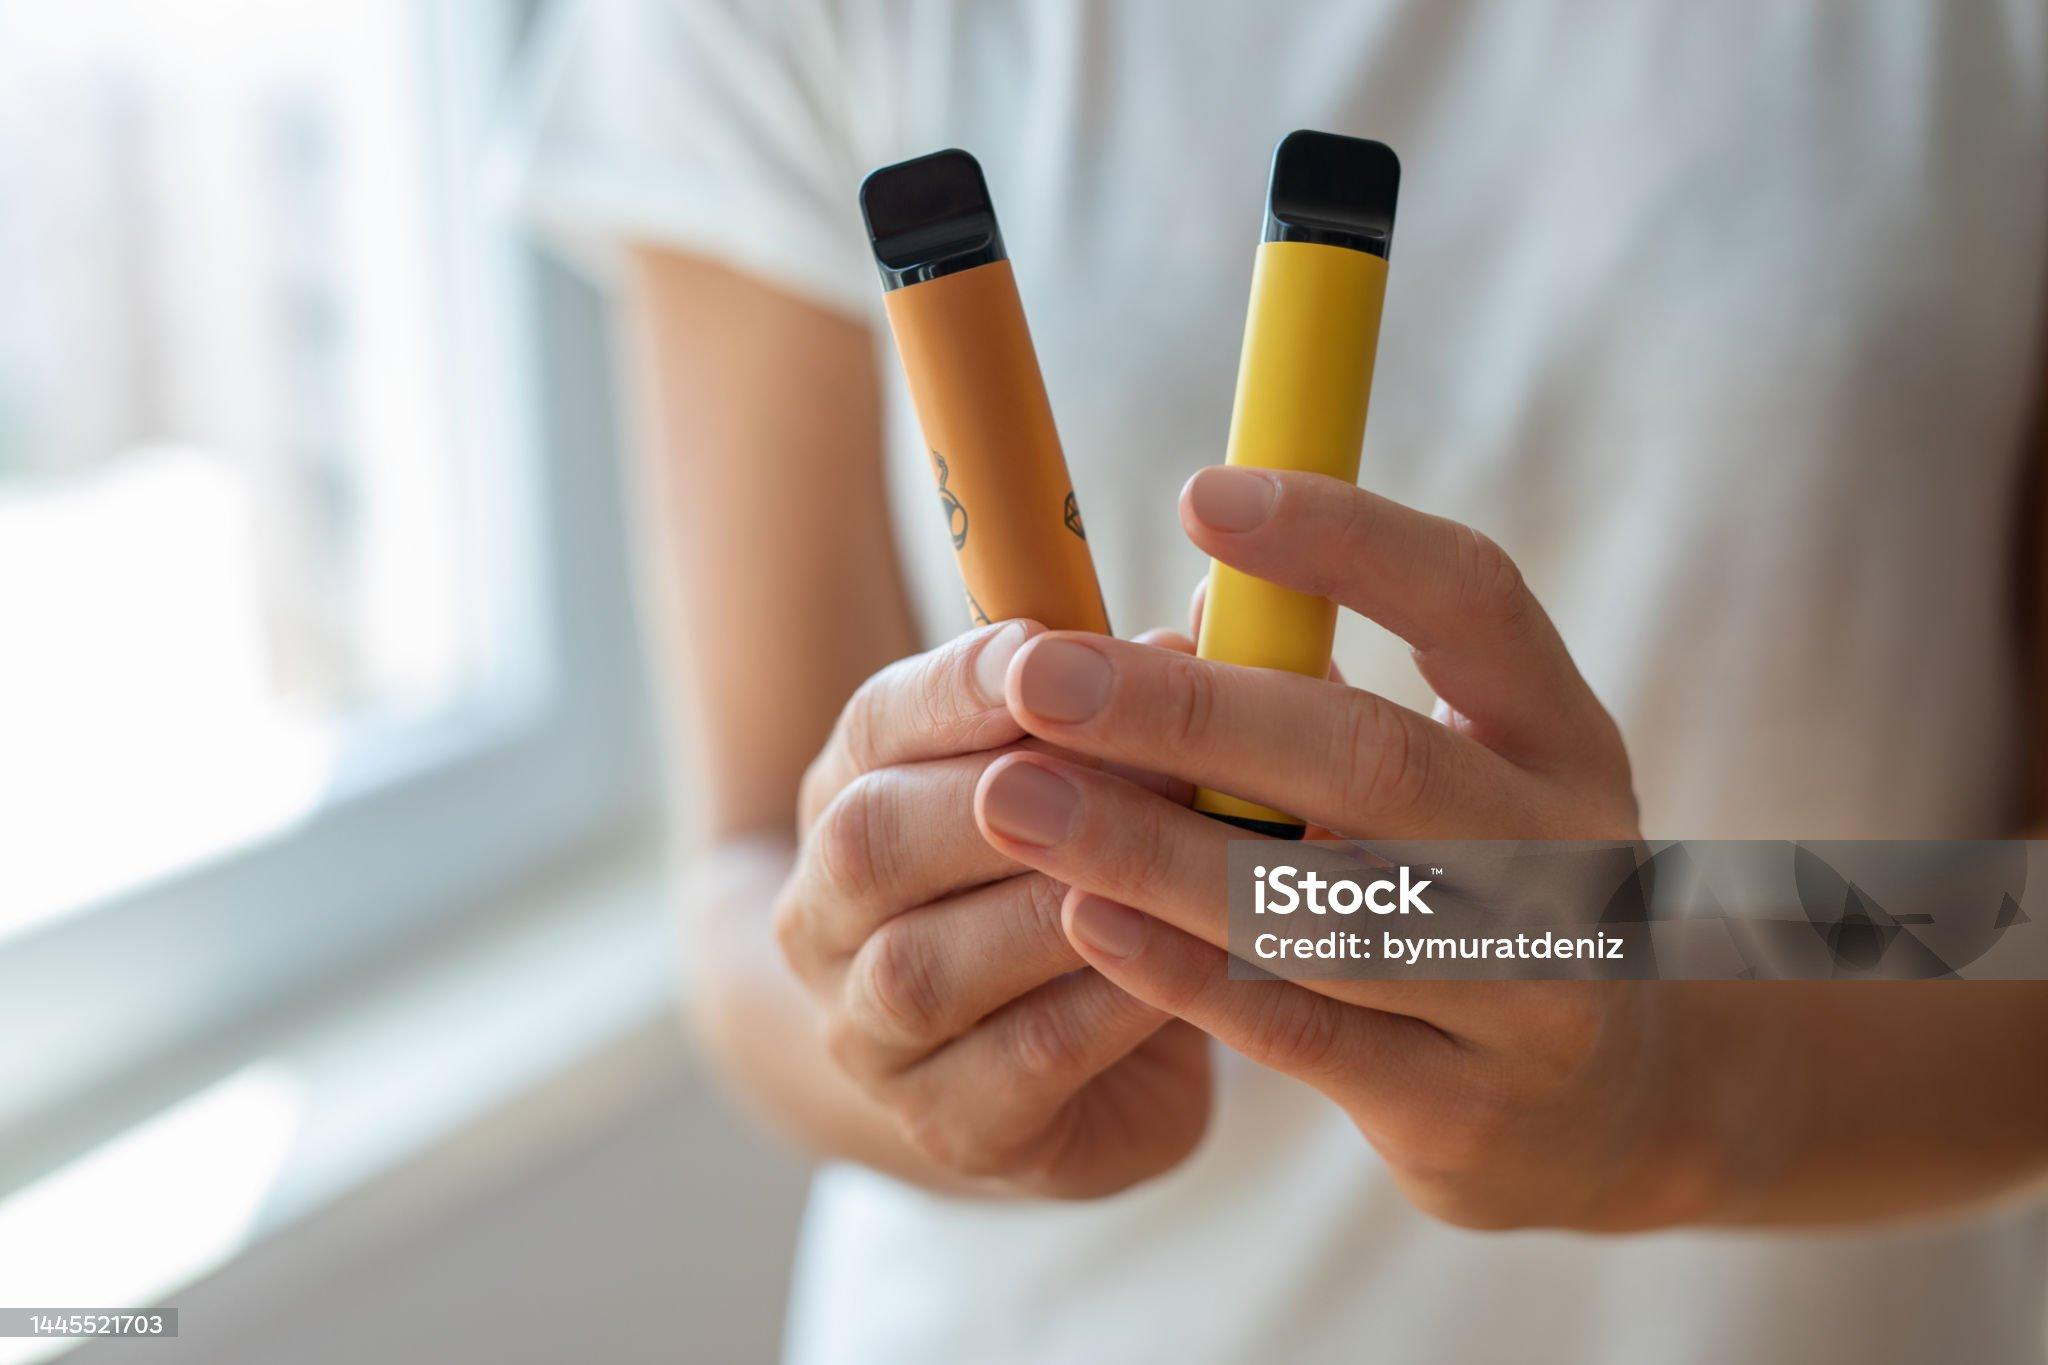Vape: (1188, 128, 1407, 847), (860, 149, 1109, 634)
